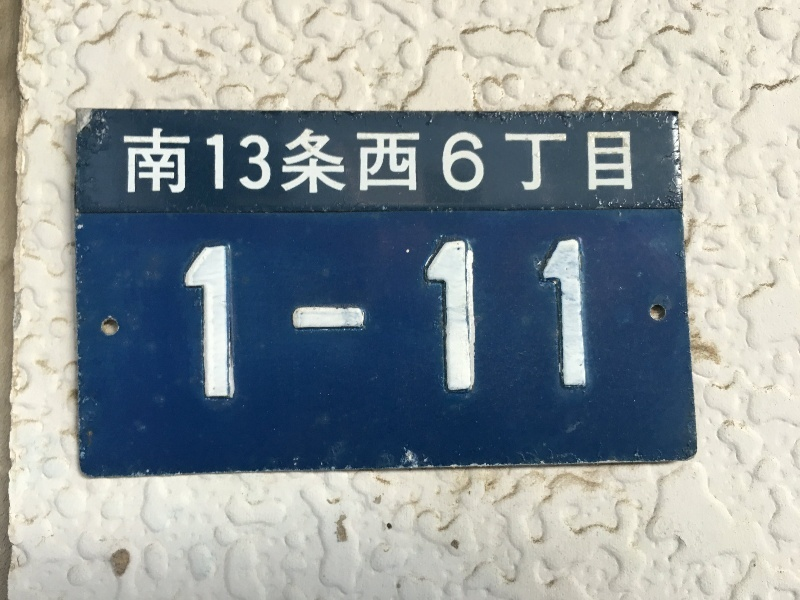text: (193, 240, 208, 400), (209, 240, 224, 400), (225, 240, 240, 400), (241, 240, 256, 400), (257, 240, 272, 400), (273, 240, 288, 400), (289, 240, 304, 400), (305, 240, 320, 400), (321, 240, 336, 400), (337, 240, 352, 400), (353, 240, 368, 400), (369, 240, 384, 400), (385, 240, 400, 400), (401, 240, 416, 400), (417, 240, 432, 400), (433, 240, 448, 400), (449, 240, 464, 400), (465, 240, 480, 400), (481, 240, 496, 400), (497, 240, 512, 400), (513, 240, 528, 400), (529, 240, 544, 400), (545, 240, 560, 400), (561, 240, 576, 400), (577, 240, 588, 400), (129, 128, 144, 197), (145, 128, 160, 197), (161, 128, 176, 197), (177, 128, 192, 197), (193, 128, 208, 197), (209, 128, 224, 197), (225, 128, 240, 197), (241, 128, 256, 197), (257, 128, 272, 197), (273, 128, 288, 197), (289, 128, 304, 197), (305, 128, 320, 197), (321, 128, 336, 197), (337, 128, 352, 197), (353, 128, 368, 197), (369, 128, 384, 197), (385, 128, 400, 197), (401, 128, 416, 197), (417, 128, 432, 197), (433, 128, 448, 197), (449, 128, 464, 197), (465, 128, 480, 197), (481, 128, 496, 197), (497, 128, 512, 197), (513, 128, 528, 197), (529, 128, 544, 197), (545, 128, 560, 197), (561, 128, 576, 197), (577, 128, 592, 197), (593, 128, 608, 197), (609, 128, 624, 197), (186, 240, 192, 400), (625, 128, 633, 197), (123, 128, 128, 197)
